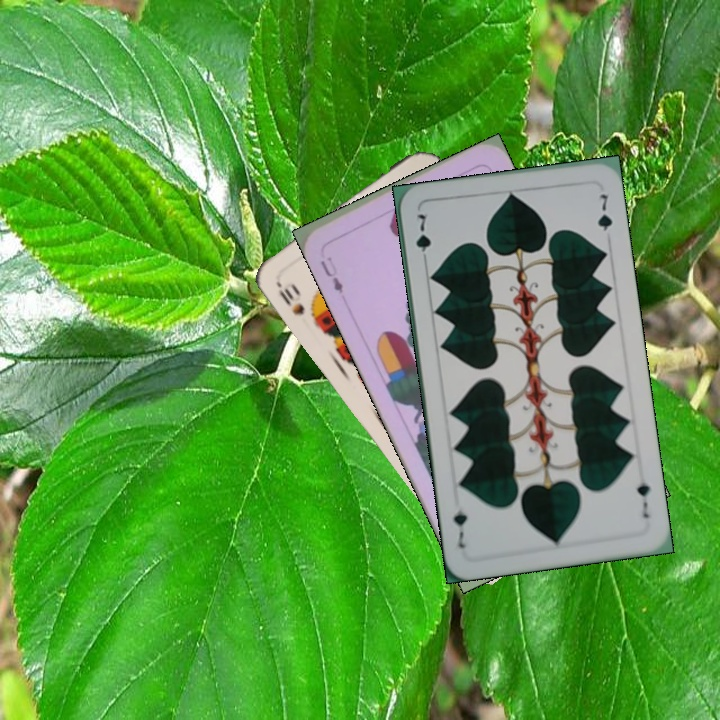EU: (316, 252, 346, 296)
G7: (411, 210, 434, 267), (633, 478, 653, 521)
S10: (274, 283, 307, 318)
